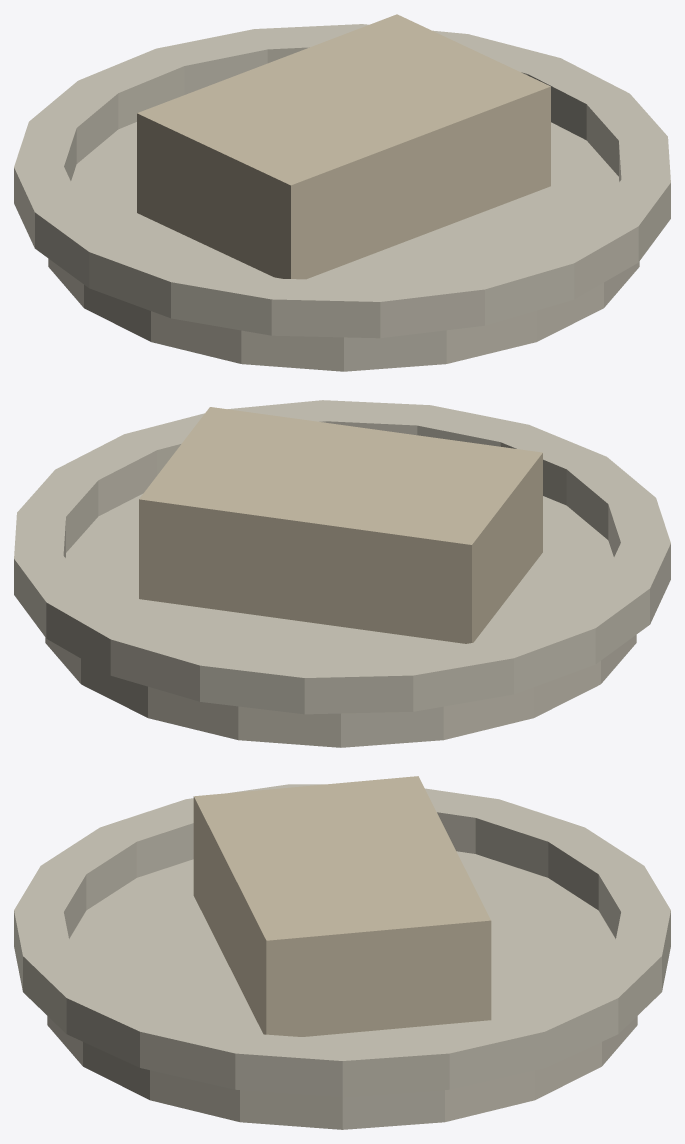
Rendered from soap-on-holder.glb.
The picture shows the model from 3 angles, top to bottom: view 1: azimuth 30°, elevation 25°; view 2: azimuth 150°, elevation 25°; view 3: azimuth 270°, elevation 25°; orthographic projection.
Parts seen in each view (by area): view 1: enamel, paper; view 2: enamel, paper; view 3: enamel, paper.
Part boxes in pixels (<box>): enamel: <box>14,24,670,371</box>; paper: <box>137,14,550,279</box>; enamel: <box>14,400,670,747</box>; paper: <box>139,407,542,643</box>; enamel: <box>14,784,670,1129</box>; paper: <box>193,776,491,1036</box>.
Bounding box in the file's own units: 0.1311 × 0.032 × 0.1315.
